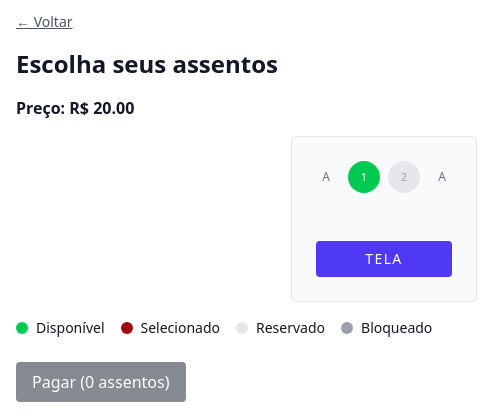
Scenario: SessionSeatsPage (integration) › should release the seat via the API when a selected seat is deselected
Step 1. Click the button titled "A1 — Disponível" → (364, 177), box [348,161,380,193]
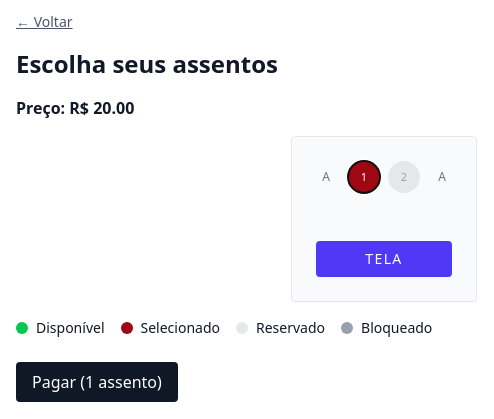
Expected: the button titled "A1 — Selecionado" is shown
// WHEN the user clicks it again to deselect
Step 2. Click the button titled "A1 — Selecionado" → (364, 177), box [348,161,380,193]
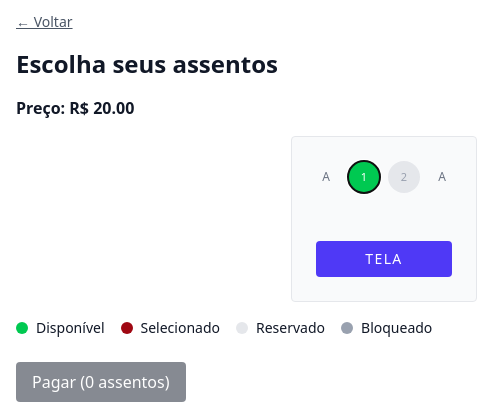
Expected: the button titled "A1 — Disponível" is shown, [348,161,380,193]
